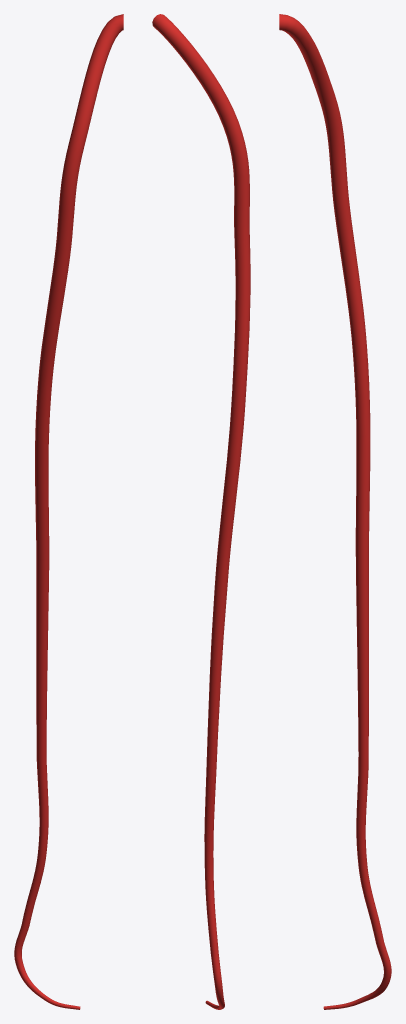
File: circulatorio-fibular-veins-r.glb
The picture shows the model from 3 angles, left to right: view 1: azimuth 90°, elevation 25°; view 2: azimuth 210°, elevation 25°; view 3: azimuth 270°, elevation 25°; orthographic projection. The views are drawn at different scales.
Parts seen in each view (by area): view 1: Fibular veins.r; view 2: Fibular veins.r; view 3: Fibular veins.r.
Boxes of the visible parts, box(x1,y1,x2,y2) form: Fibular veins.r: box(14, 14, 123, 1009); Fibular veins.r: box(152, 14, 250, 1009); Fibular veins.r: box(279, 14, 391, 1009).
Size of the model in its own units: 0.0234 by 0.3214 by 0.0324.
